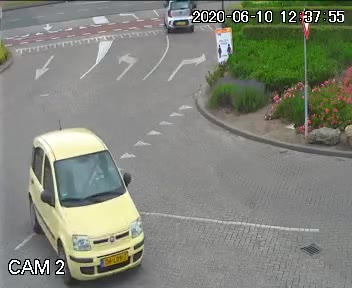car: (25, 121, 141, 284), (160, 0, 197, 38)
